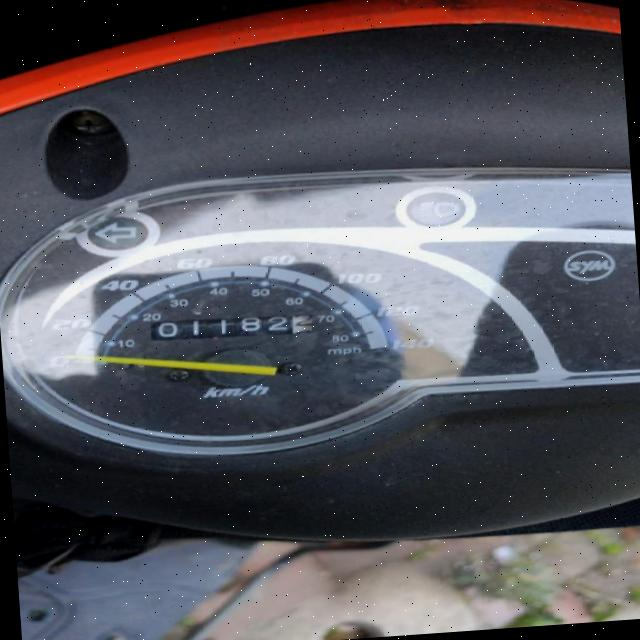odometer: (144, 308, 318, 346)
